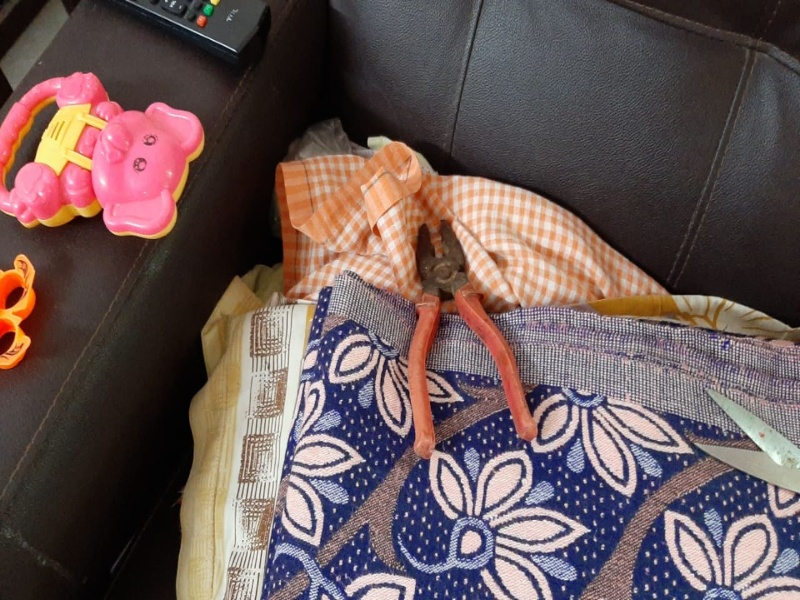cuttingplier: (400, 204, 539, 461)
